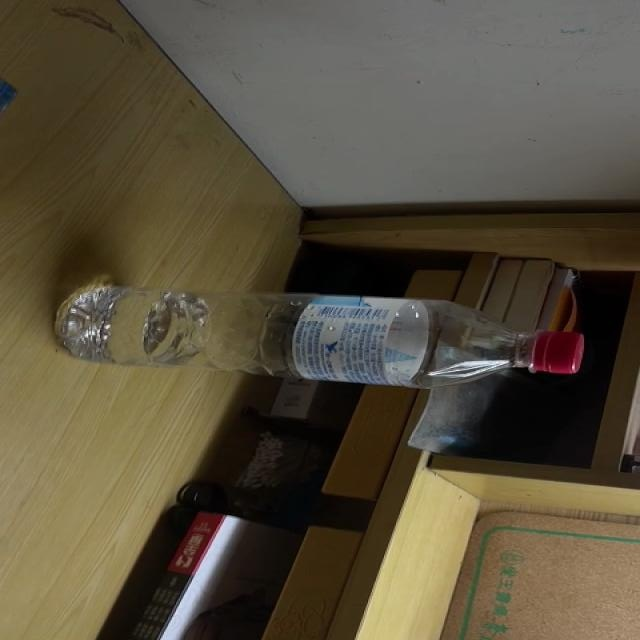Water: (51, 287, 584, 390)
